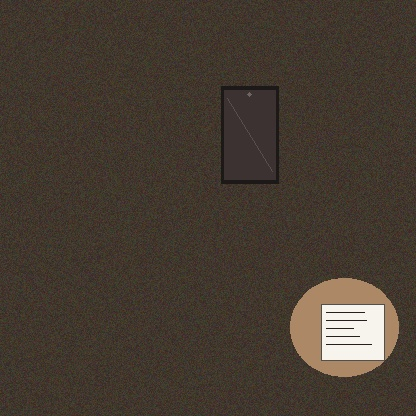cell_phone: (221, 86, 278, 183)
exam_chit: (321, 304, 384, 360)
